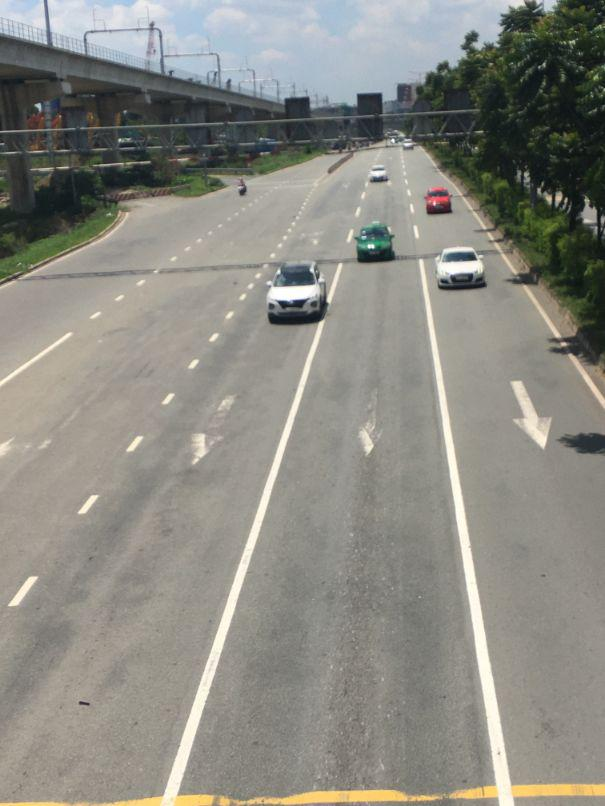car: (267, 262, 328, 324), (439, 246, 487, 290), (356, 222, 394, 264), (427, 188, 454, 215), (369, 165, 390, 184)
